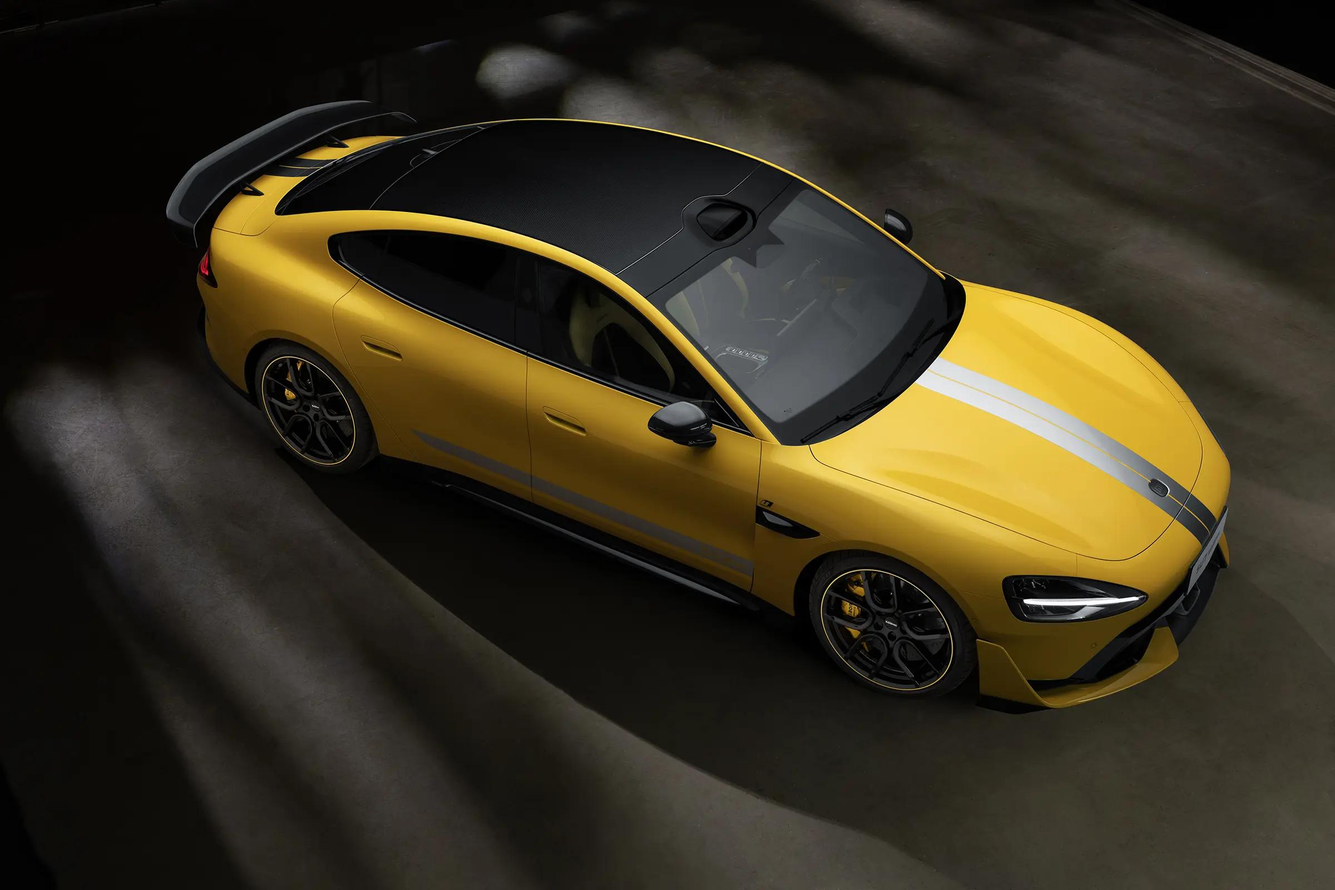XIAOMI: (1149, 478, 1169, 497)
